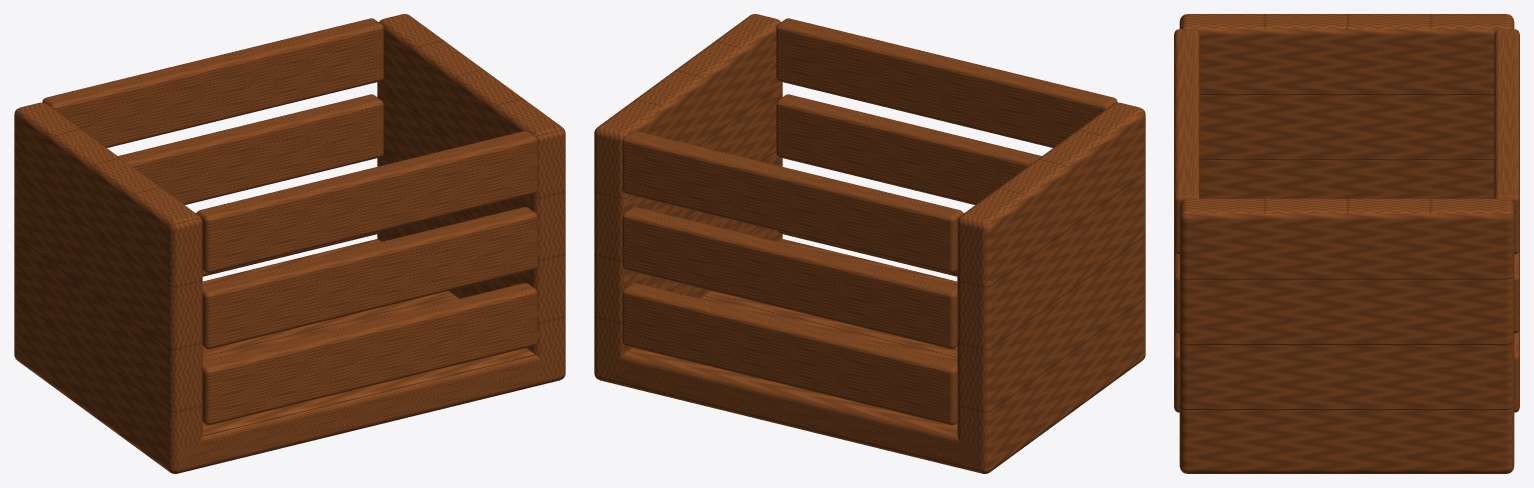
File: ceramics-pottery-studio-shipping-crate-7ff41325__29527.glb
3 renders of one model, left to right at view 1: azimuth 30°, elevation 25°; view 2: azimuth 150°, elevation 25°; view 3: azimuth 270°, elevation 25°, orthographic. The views are drawn at different scales.
Parts seen in each view (by area): view 1: shipping-crate; view 2: shipping-crate; view 3: shipping-crate.
Part boxes in pixels (box(x1,y1,x2,y2)): shipping-crate: box(14, 14, 565, 473); shipping-crate: box(594, 14, 1145, 473); shipping-crate: box(1174, 14, 1519, 473).
Bounding box in the file's own units: 0.655 × 0.4 × 0.475.
1 material, 1 textured.
